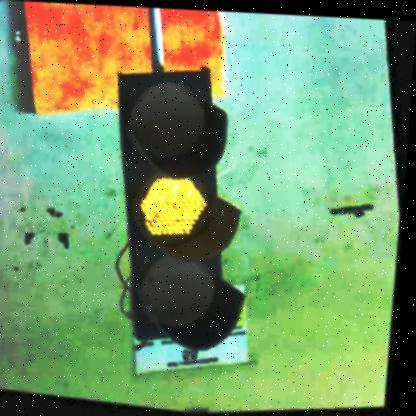Traffic Light -Yellow-: (100, 56, 275, 363)
